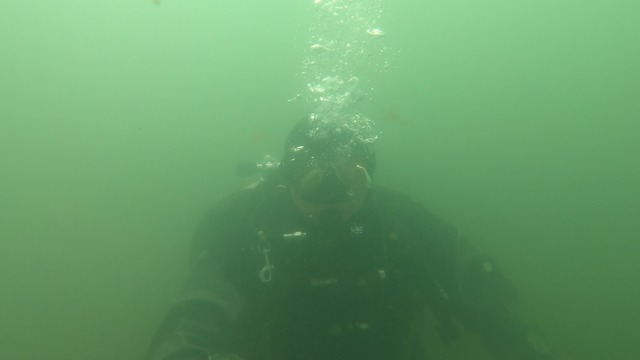Diver: (105, 59, 572, 358)
Head: (232, 97, 408, 280)
